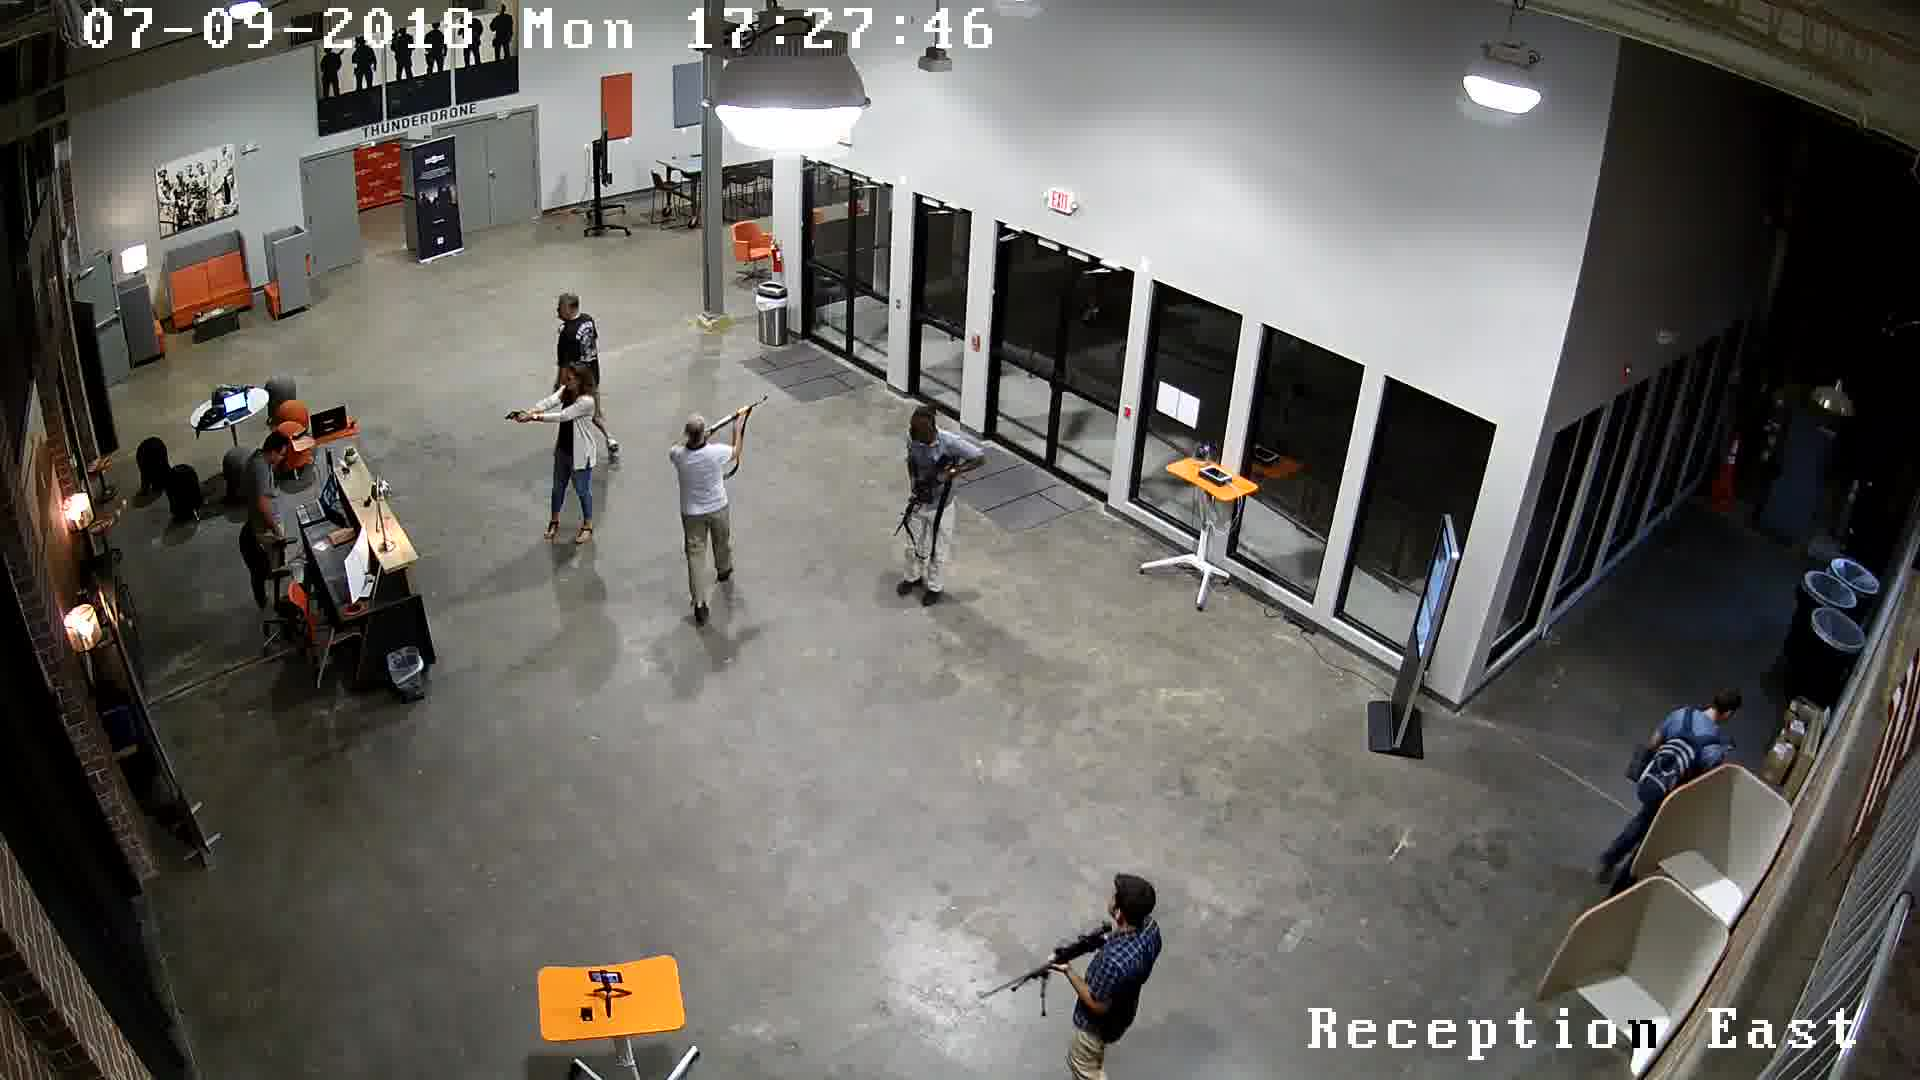pistol: (495, 404, 529, 434)
